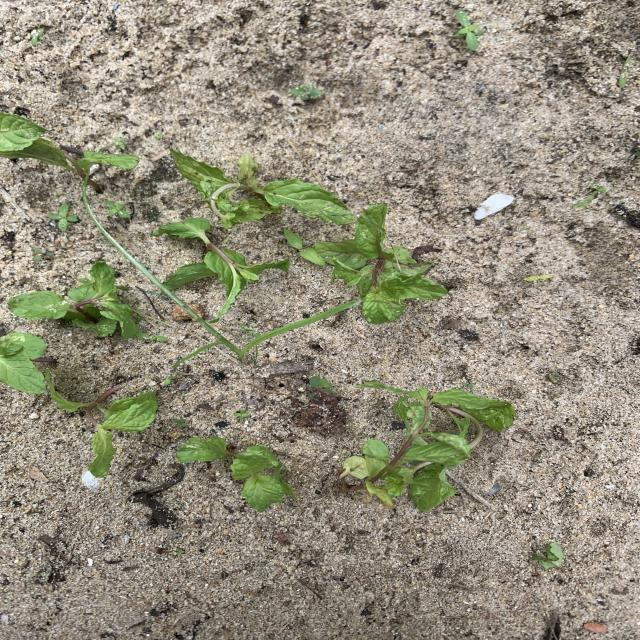crop: (341, 381, 514, 509), (313, 204, 447, 323), (155, 216, 289, 318), (172, 152, 353, 226), (10, 261, 140, 337), (50, 387, 156, 475), (1, 113, 139, 177), (177, 436, 295, 510), (1, 333, 47, 393)
weed: (82, 191, 359, 359), (284, 230, 324, 266), (455, 11, 483, 49), (49, 203, 77, 230), (574, 185, 606, 207), (309, 377, 331, 397), (291, 85, 321, 99), (106, 200, 129, 218), (619, 57, 630, 87), (140, 333, 168, 343), (33, 248, 57, 259), (30, 29, 44, 43), (523, 275, 553, 281), (234, 410, 248, 419), (175, 419, 187, 427), (547, 373, 556, 382), (165, 376, 173, 383)
